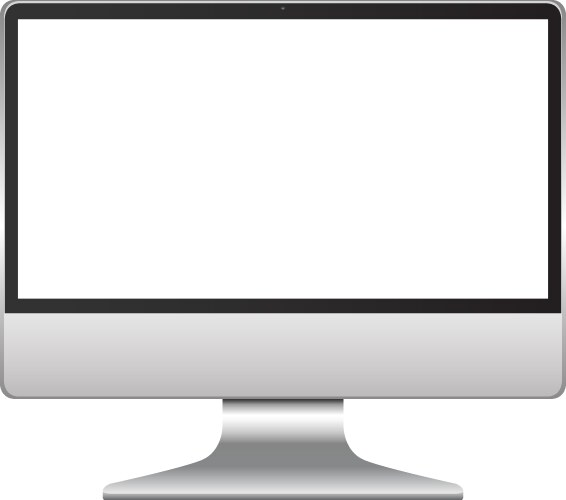Ordinateur: (281, 92, 470, 228)
